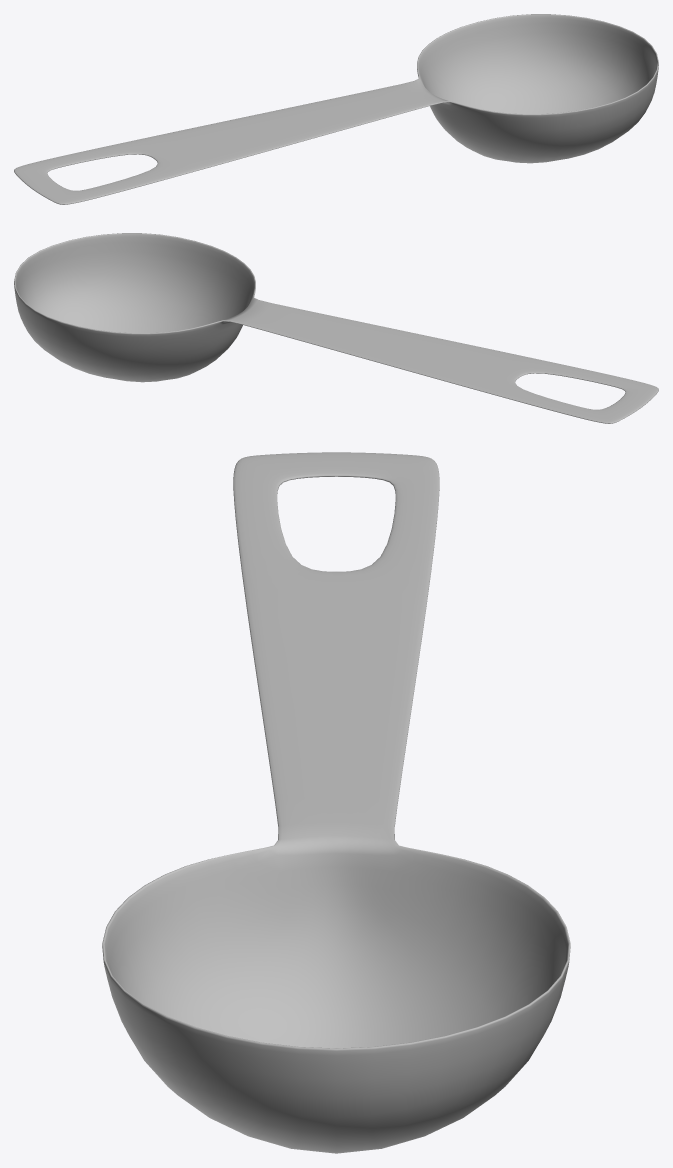
Rendered from cucharahelado.fbx.
3 renders of one model, top to bottom at view 1: azimuth 30°, elevation 25°; view 2: azimuth 150°, elevation 25°; view 3: azimuth 270°, elevation 25°, orthographic. The views are drawn at different scales.
Parts seen in each view (by area): view 1: spoon_001_mesh; view 2: spoon_001_mesh; view 3: spoon_001_mesh.
Boxes of the visible parts, x1=… form: spoon_001_mesh: x1=14, y1=14, x2=658, y2=204; spoon_001_mesh: x1=14, y1=233, x2=658, y2=423; spoon_001_mesh: x1=102, y1=452, x2=570, y2=1153.
Size of the model in its own units: 16.1 by 2.17 by 5.33.
1 material, 1 textured.
